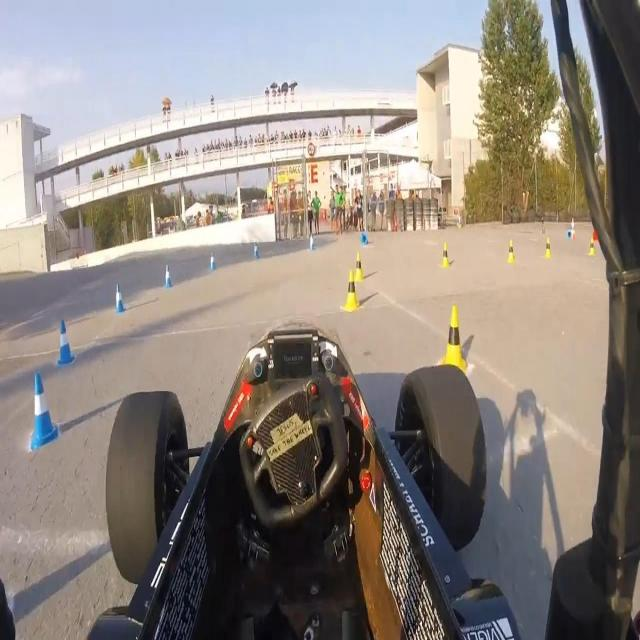blue_cone: (26, 363, 55, 457), (56, 315, 72, 361), (110, 279, 128, 316), (156, 260, 174, 286), (206, 250, 218, 275), (253, 238, 261, 261)
yellow_cone: (434, 299, 474, 372), (437, 230, 456, 273), (341, 269, 359, 312), (504, 226, 518, 268), (352, 250, 369, 277), (542, 225, 552, 260)
